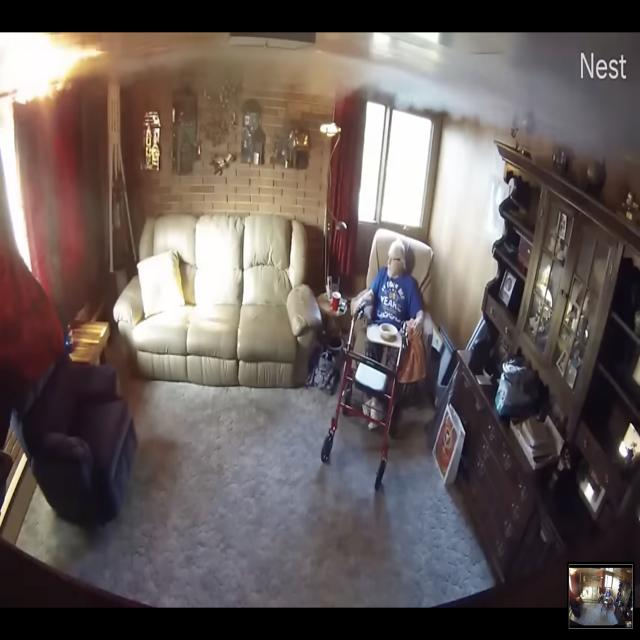Fogo: (6, 39, 114, 138)
